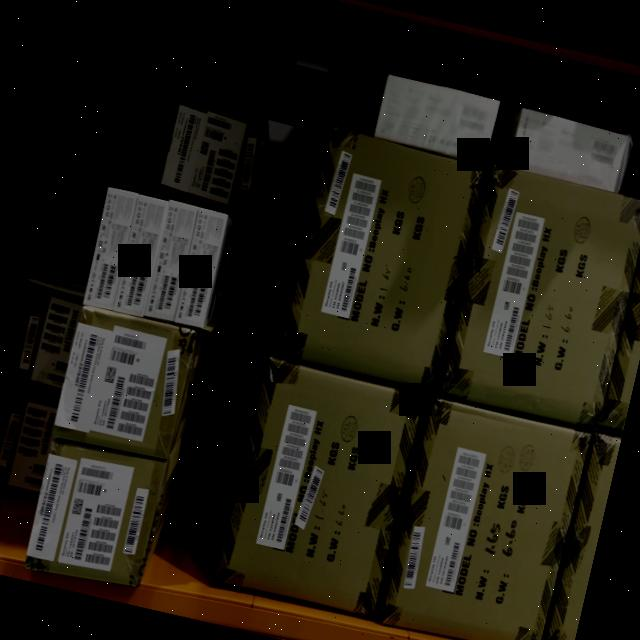box: (216, 361, 422, 621), (282, 132, 486, 394), (441, 168, 640, 430), (384, 401, 588, 640), (52, 308, 192, 459), (22, 441, 160, 593), (80, 188, 140, 314), (114, 196, 168, 317), (145, 203, 198, 320), (176, 208, 225, 322)
